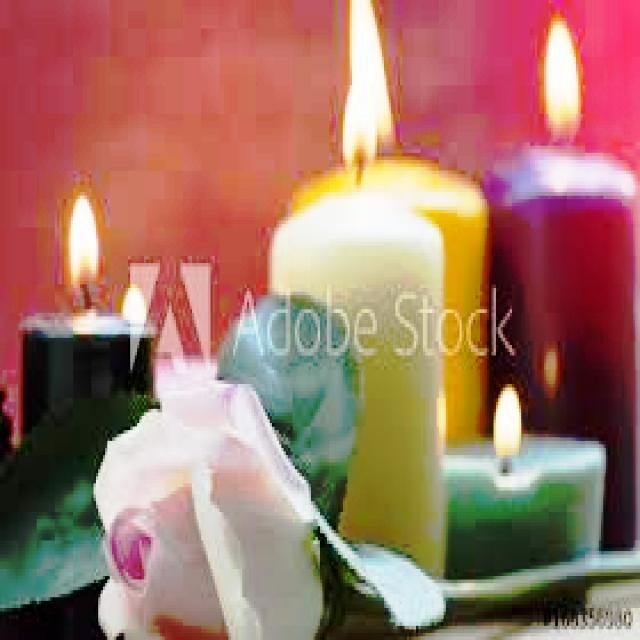api: (344, 5, 403, 143), (540, 15, 600, 140), (330, 83, 394, 179), (67, 186, 111, 310), (493, 382, 522, 460)
